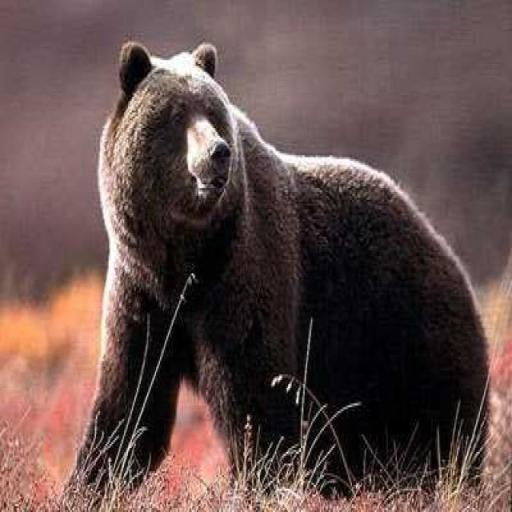Bear: (62, 39, 492, 504)
